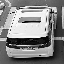mobil: (4, 6, 55, 59)
